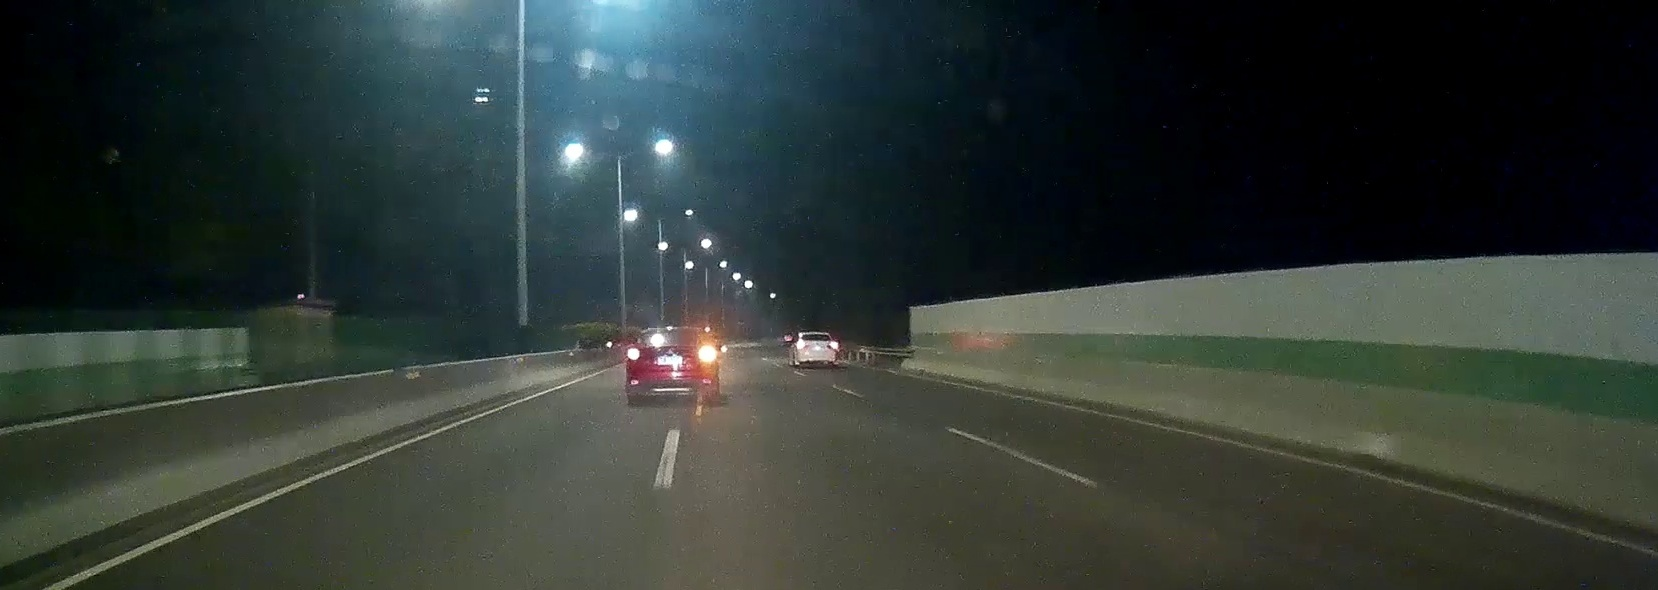L_light: (627, 348, 641, 359), (797, 342, 806, 347)
R_light: (699, 348, 717, 359), (829, 342, 837, 347)
T_light: (668, 330, 681, 333), (814, 334, 822, 336)
night-no: (795, 331, 839, 367)
night-right: (625, 327, 719, 400)
